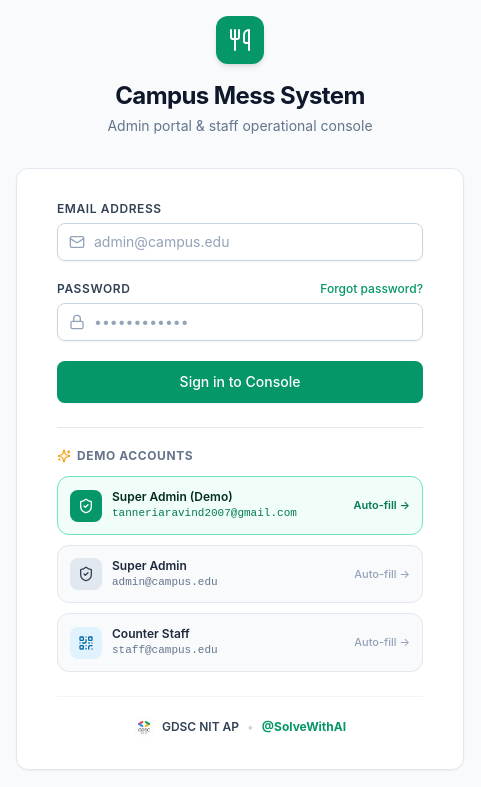
it: LoginPage Demo Login & Mock Password Reset Workflow › Demo Login Presets › populates Counter Staff credentials into form when card is clicked
Click the button "Counter Staff".
click(86, 642)  # box [57, 613, 423, 672]
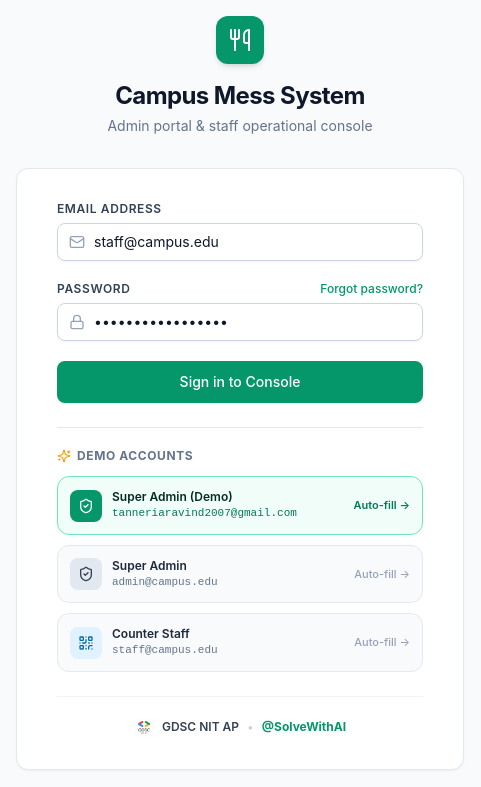
expect the field labelled "Email Address" holds "staff@campus.edu": met, box [57, 223, 423, 261]
expect the password field labelled "Password" holds "StaffPassword123!": met, box [57, 303, 423, 341]
